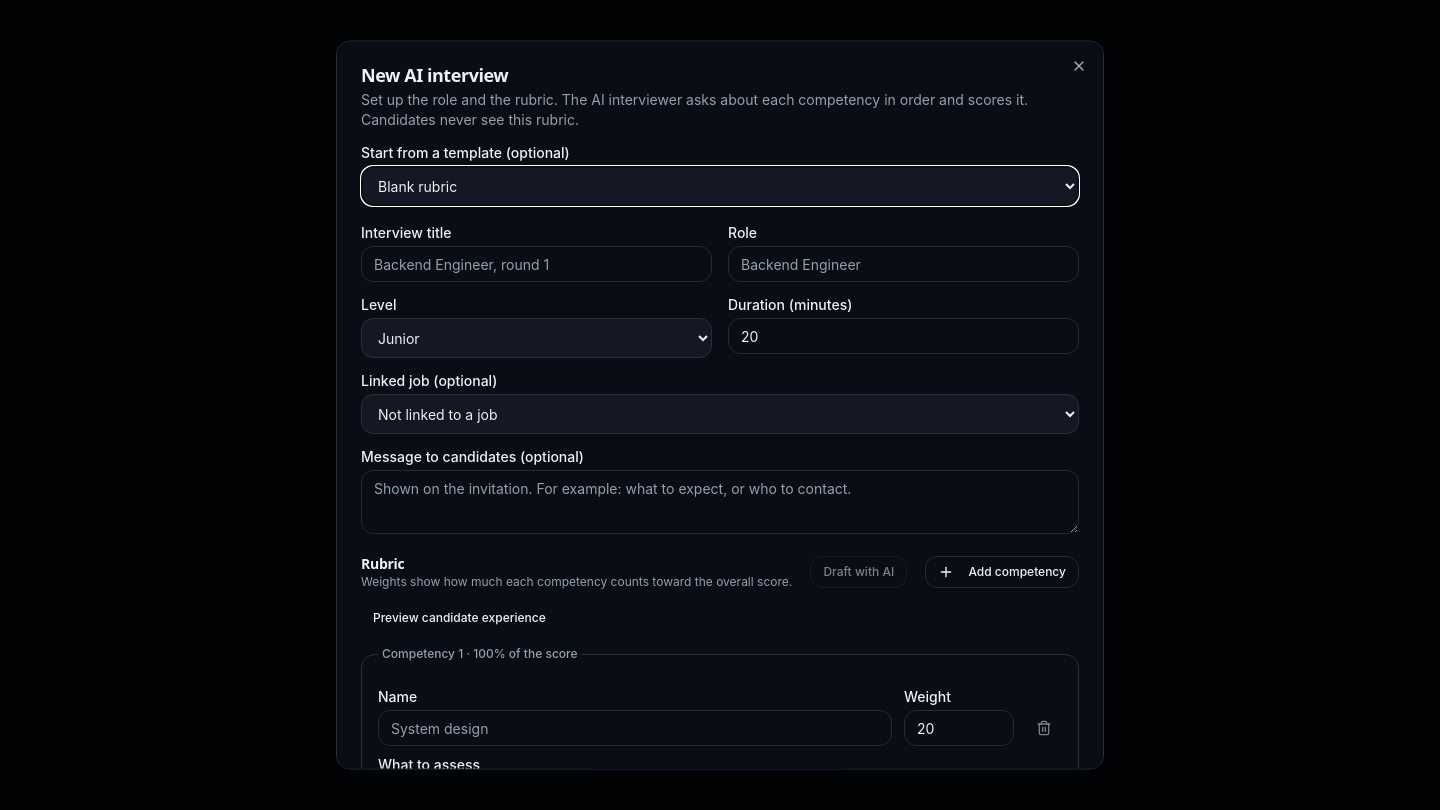
Test: interview builder: AI rubric and preview › previews what the candidate will experience
Type "Data Analyst" into the field labelled "Role" at (904, 264), box 728,246 -> 1079,282
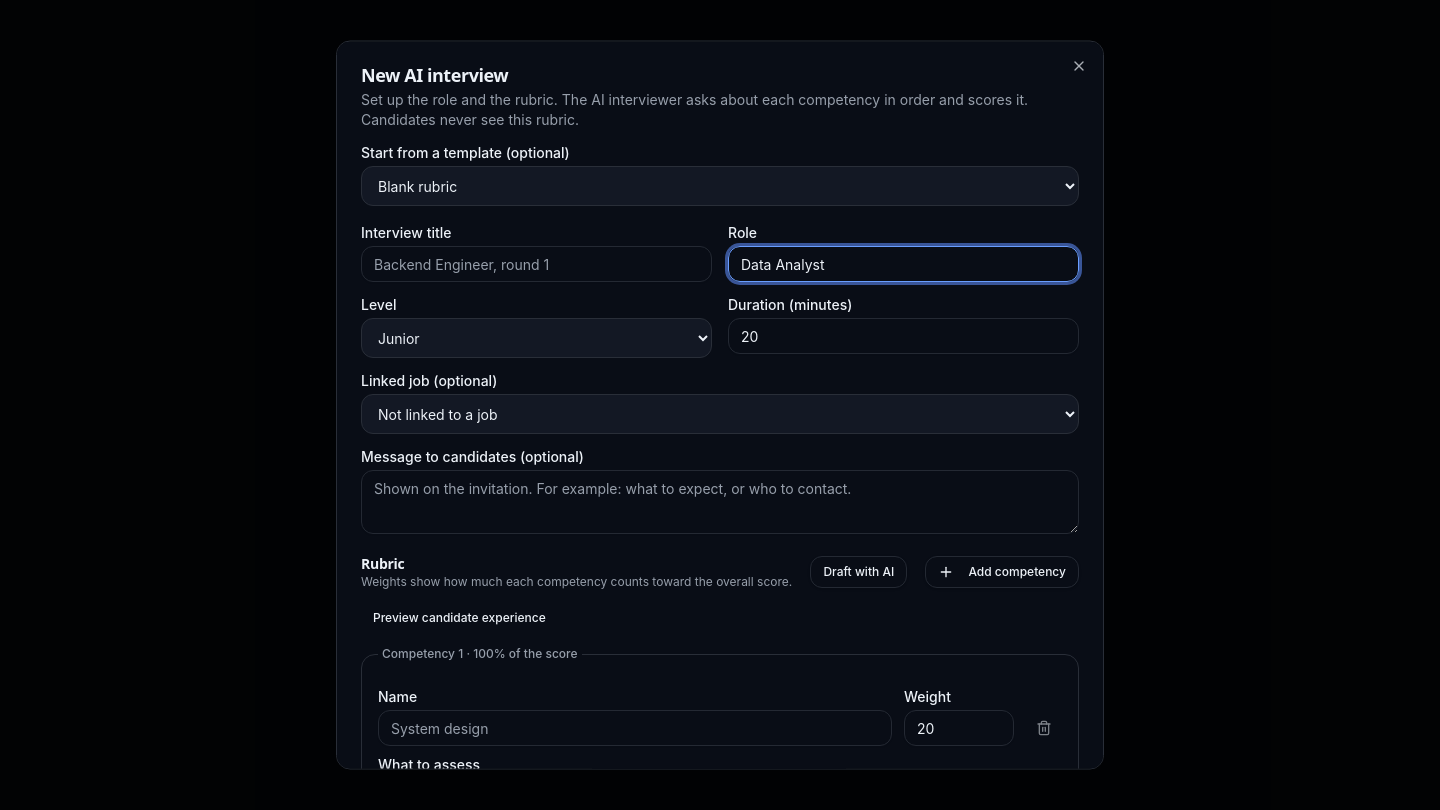
Click the button "Preview candidate experience" at (459, 618), box 361,602 -> 558,634
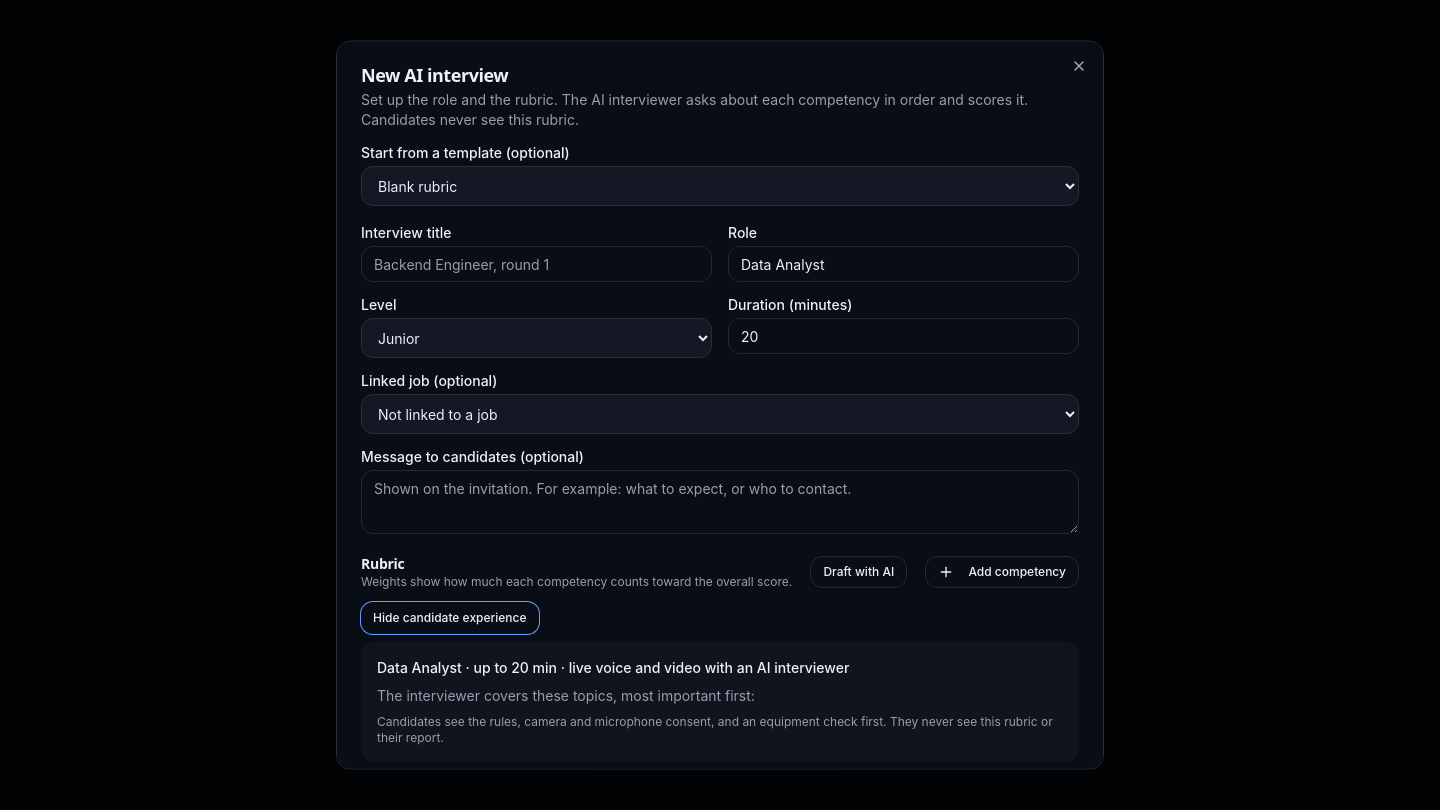
Expected: the text "Data Analyst" is shown, 377,658 -> 462,676
Expected: the text "never see this rubric" is shown, 377,714 -> 1053,744
